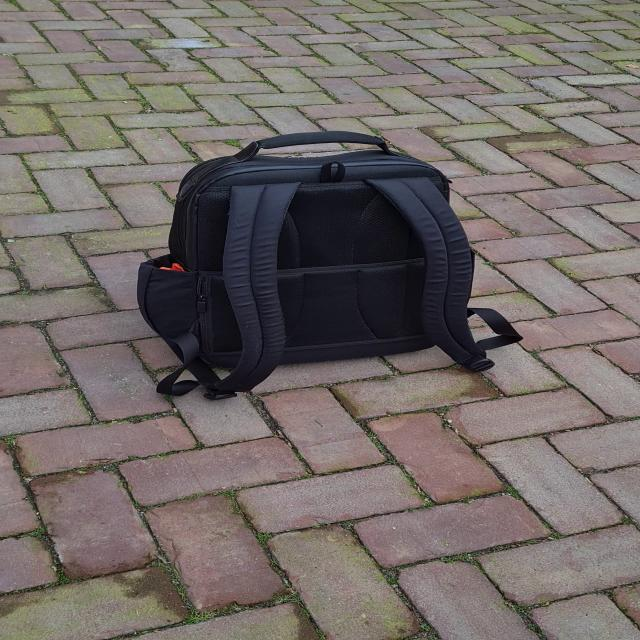backpack: (134, 131, 520, 405)
